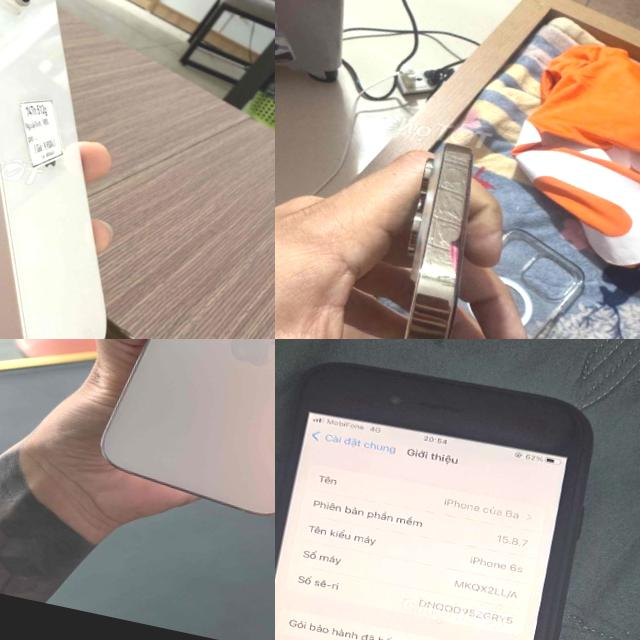gen_14: (0, 0, 201, 339), (75, 339, 275, 535), (355, 120, 530, 339)
gen_6: (275, 339, 625, 640)
